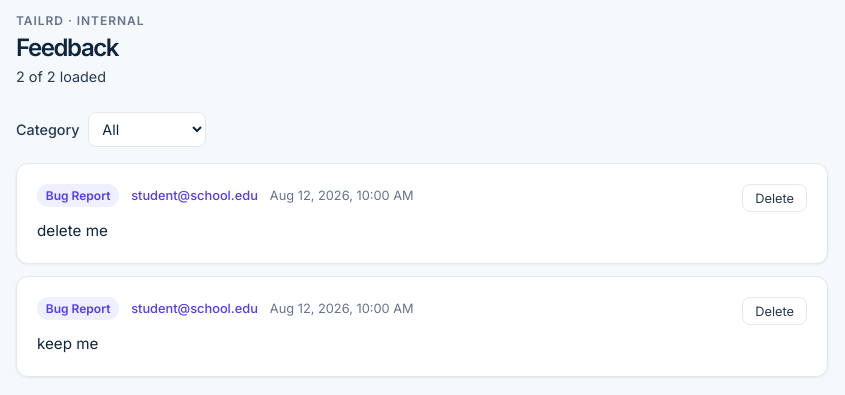
AdminFeedback › deletes the chosen item and leaves the others
expect the text "delete me" is shown: met, box [37,221,108,240]
Step 1. Click the 1st button "Delete" → (775, 198), box [742,184,807,212]
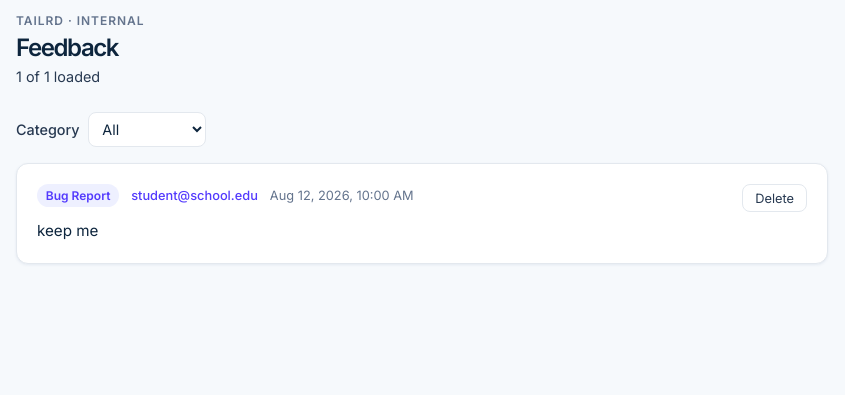
expect the text "keep me" is shown: met, box [37,221,98,240]
expect the text "delete me" is gone: met
